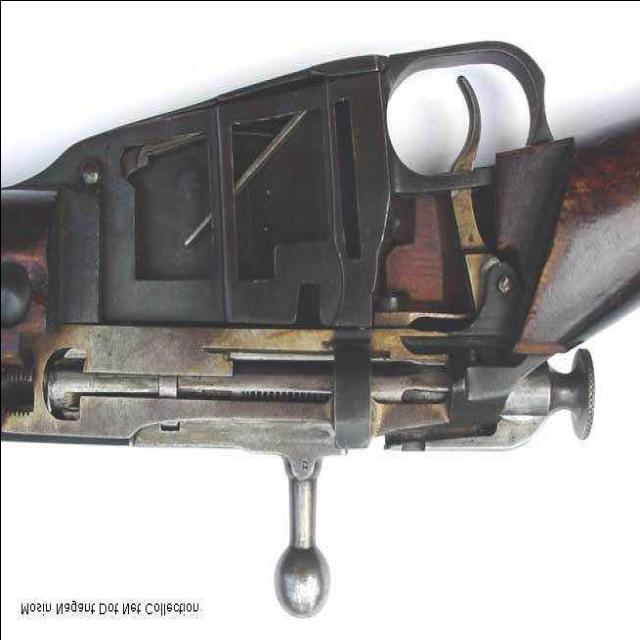heavyweapon: (9, 45, 640, 538)
